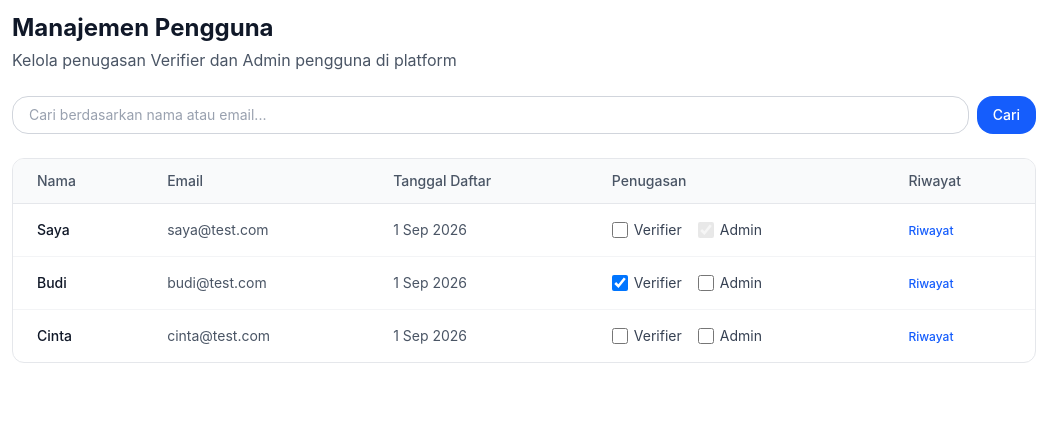
Test case: AdminUsersPage › opens the grant/revoke audit trail of a user from their row, in the order the route returns it
Step 1. Click the button "Riwayat" in the row of "budi@test.com" → (931, 284), box [908,276,954,292]
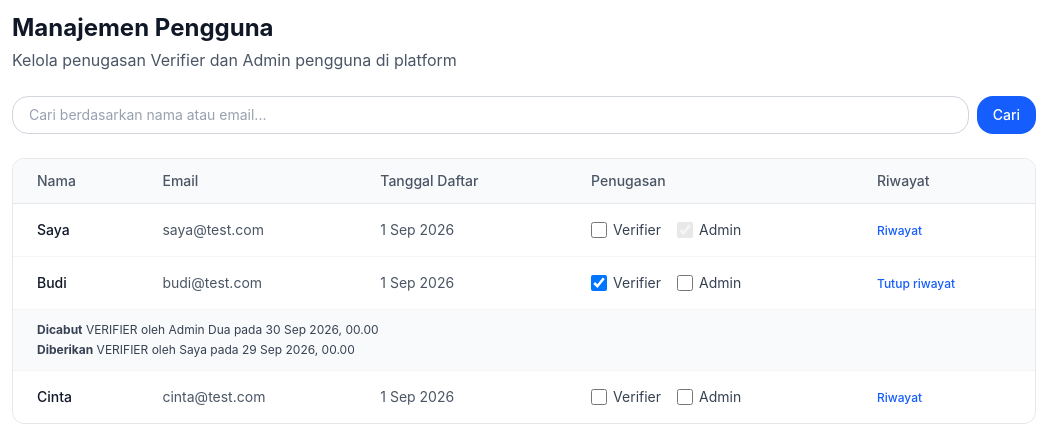
Now the number of list items is 2, box [37,322,379,337]; [37,342,355,357]
Now the list item "Dicabut VERIFIER oleh Admin Dua pada 30 Sep 2026, 00.00" is shown, box [37,322,379,337]
Now the list item "Diberikan VERIFIER oleh Saya pada 29 Sep 2026, 00.00" is shown, box [37,342,355,357]
